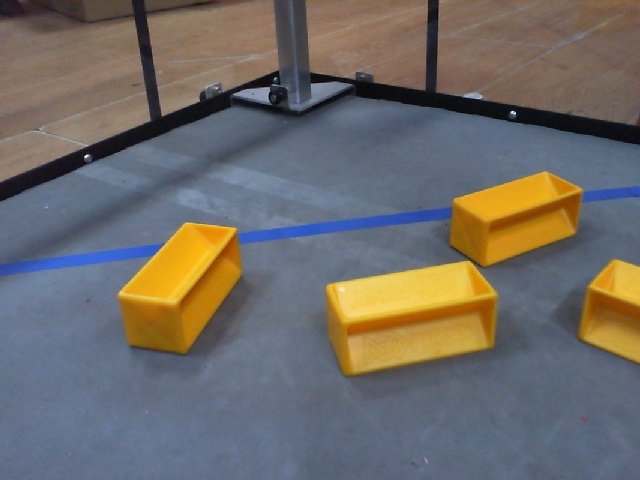YellowSample: (317, 259, 503, 382), (116, 219, 249, 358), (446, 171, 585, 267), (577, 258, 640, 368)
